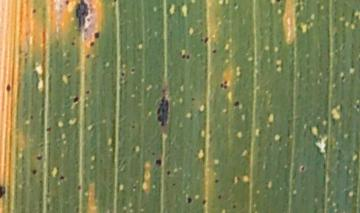tarspot: (153, 95, 169, 128), (73, 1, 89, 31), (1, 184, 7, 200), (231, 99, 241, 108), (220, 80, 229, 90), (93, 30, 101, 41), (4, 82, 12, 93), (200, 197, 208, 208), (83, 88, 92, 97), (154, 158, 162, 168), (44, 124, 52, 134), (72, 95, 79, 106), (34, 154, 43, 162), (212, 177, 221, 185), (165, 169, 173, 178), (186, 196, 193, 206), (69, 40, 77, 48), (129, 66, 137, 74), (89, 40, 96, 49), (84, 52, 91, 61), (119, 70, 126, 79), (354, 101, 360, 111), (59, 174, 66, 182), (203, 36, 210, 44), (149, 150, 156, 158), (231, 1, 238, 9), (31, 168, 37, 177), (75, 184, 82, 191), (190, 96, 197, 103), (299, 165, 306, 172), (210, 48, 218, 54), (216, 193, 222, 201), (230, 203, 238, 209), (340, 74, 346, 82), (180, 53, 186, 60), (31, 7, 37, 14), (66, 73, 73, 79), (185, 53, 190, 61), (170, 182, 178, 187), (28, 113, 33, 120), (64, 1, 70, 6), (130, 123, 135, 129), (273, 1, 281, 4), (112, 1, 117, 3)
